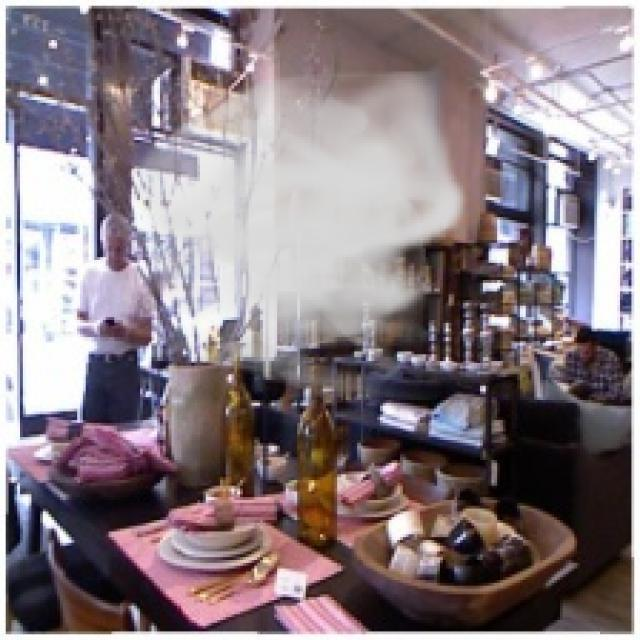Smoke: (120, 60, 469, 409)
